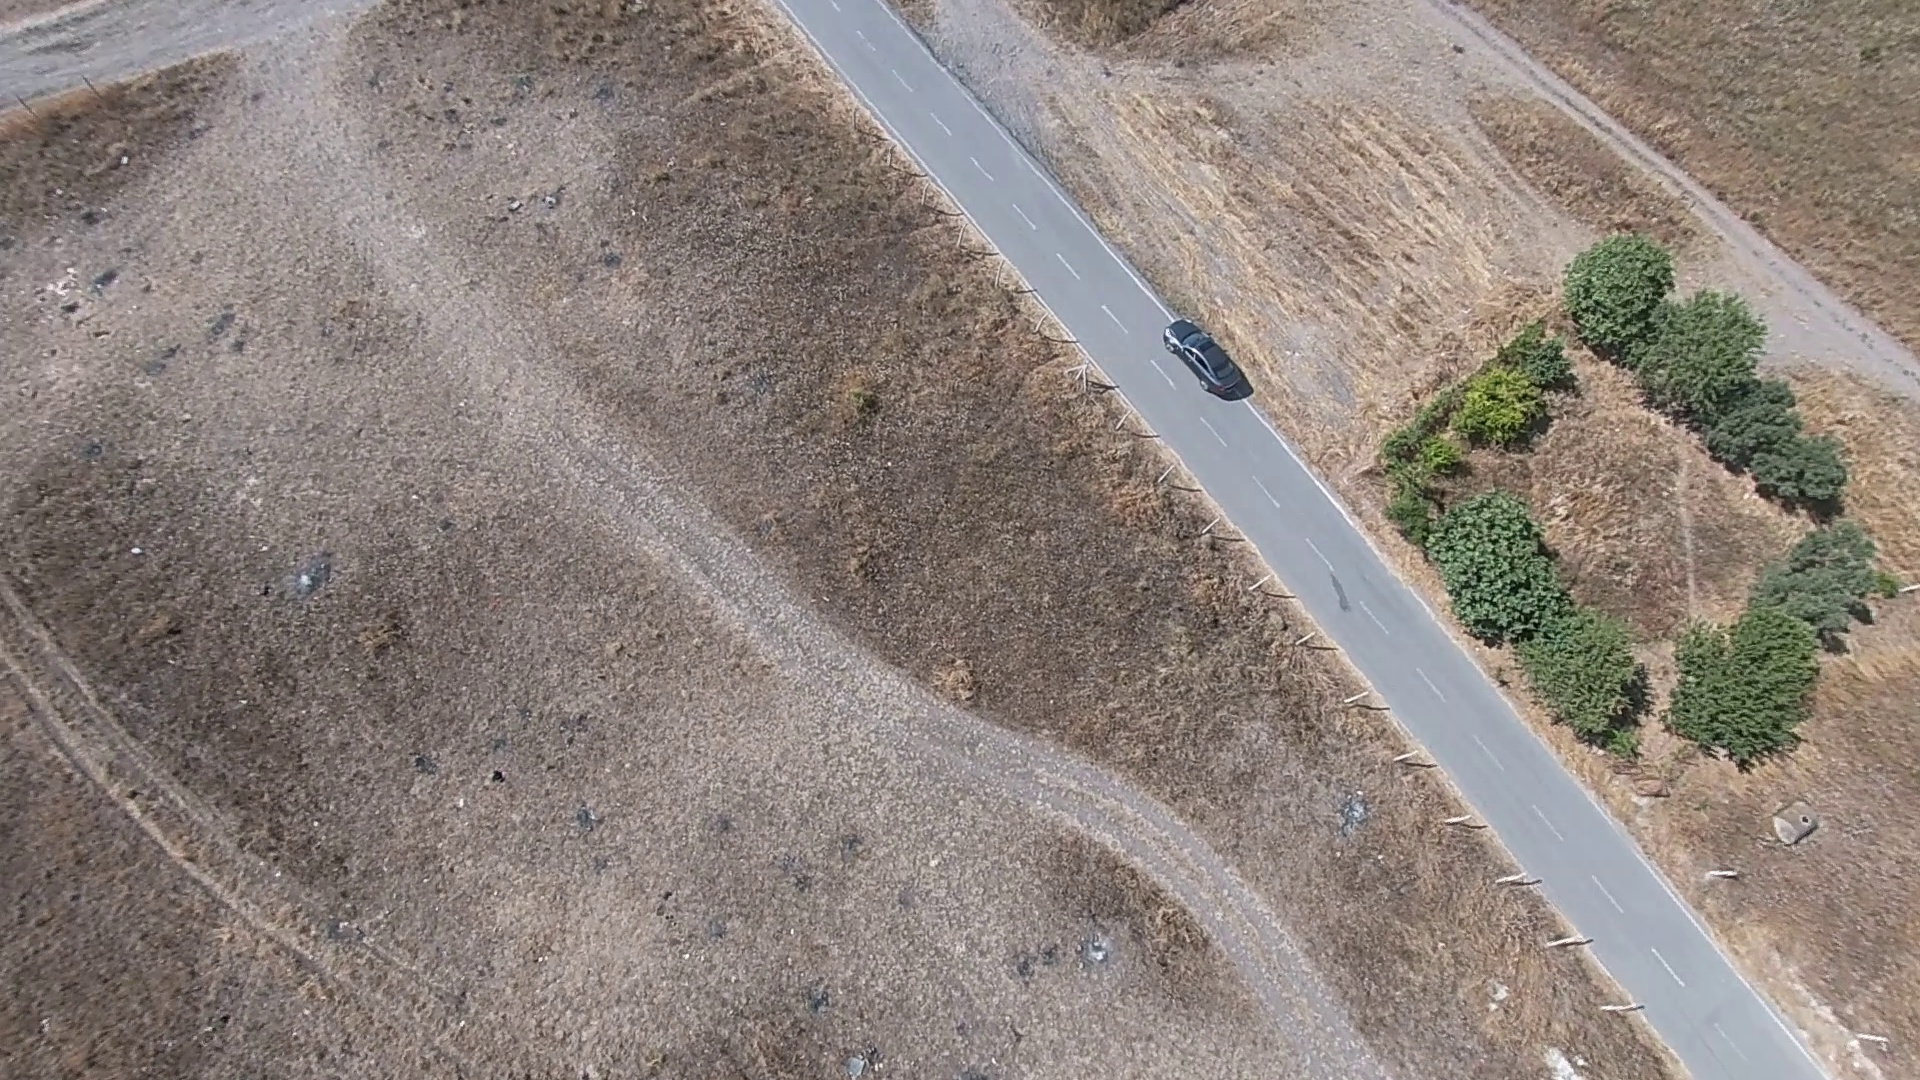araba: (1162, 318, 1251, 400)
